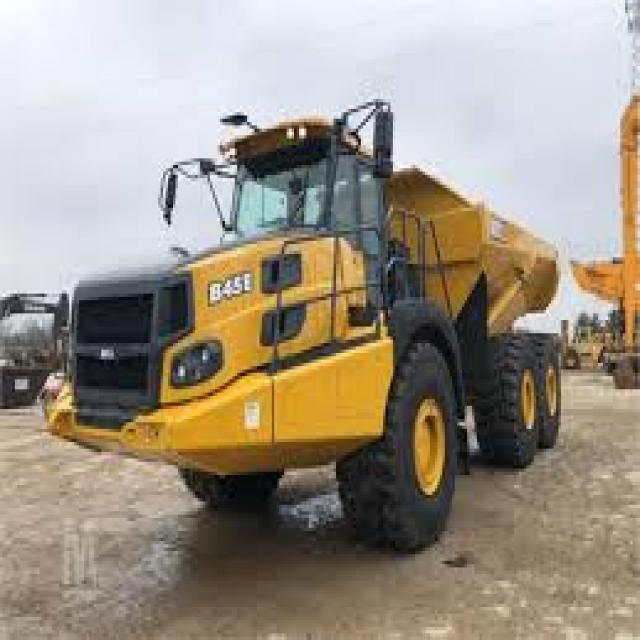dump_truck: (49, 85, 600, 570)
